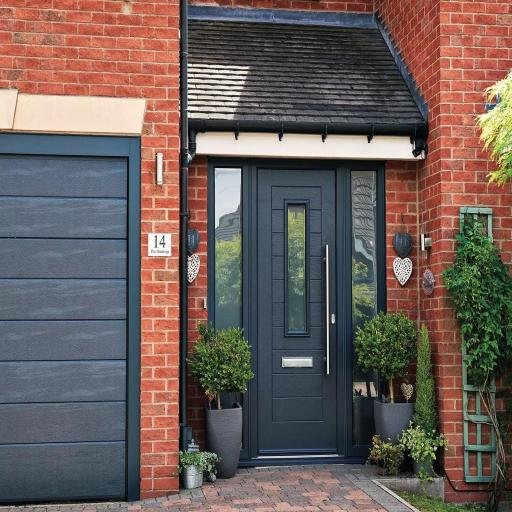door: (200, 150, 410, 475)
